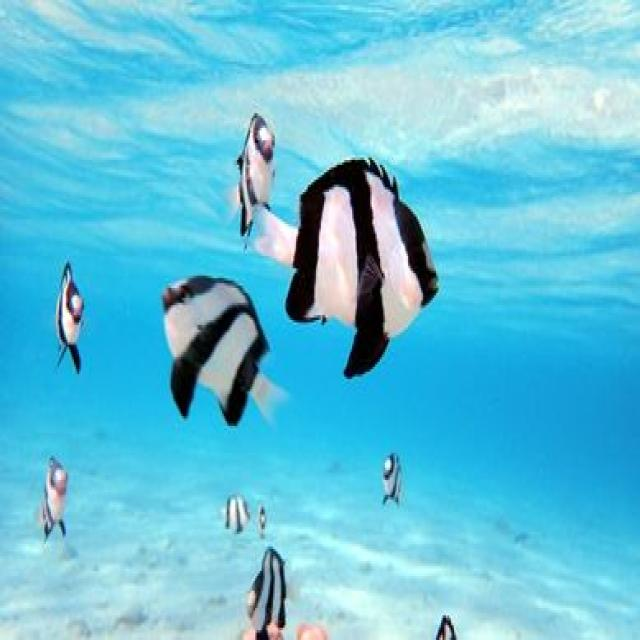ThreeStripedDamselfish: (248, 160, 441, 382), (161, 276, 290, 428), (242, 549, 294, 640), (53, 261, 86, 372), (36, 455, 69, 542)
